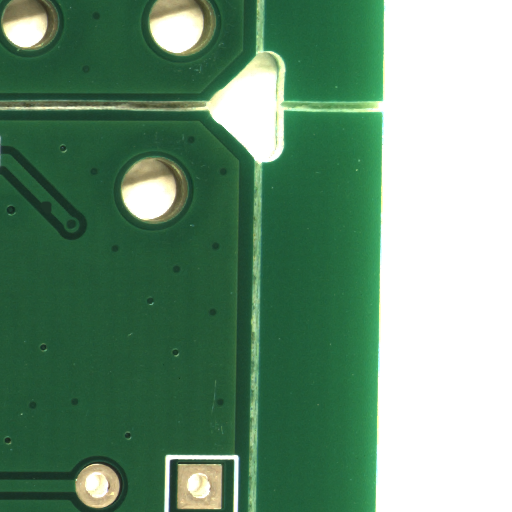Mouse_bite: (47, 207, 58, 219)
